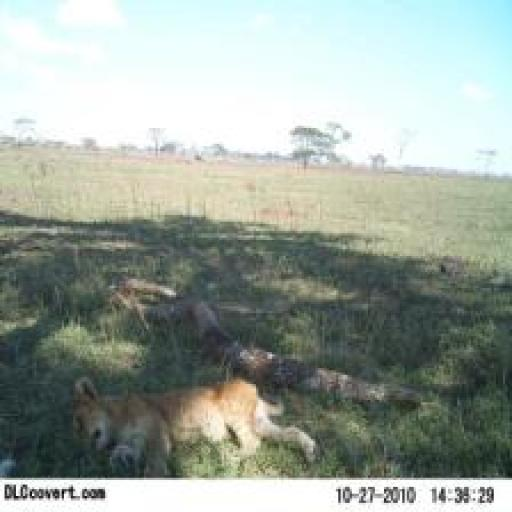lion: (57, 350, 317, 473)
